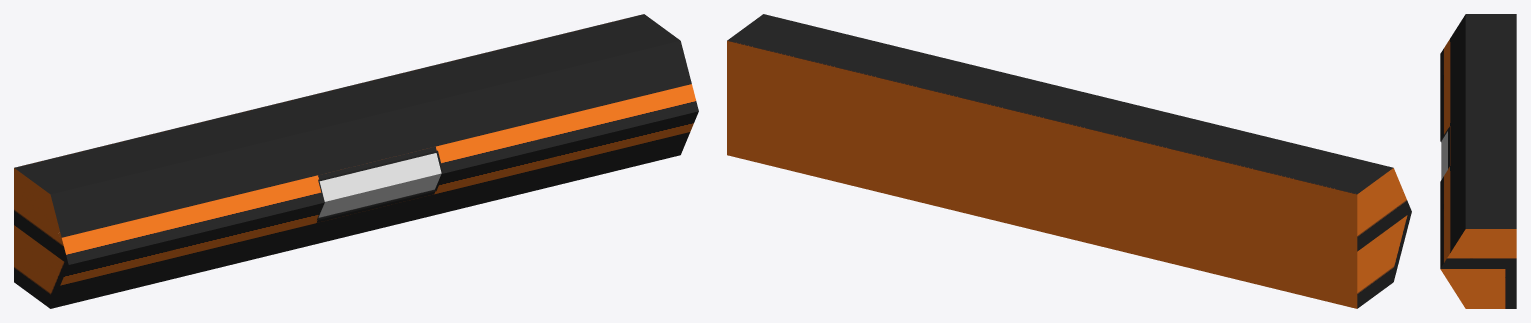
Rendered from model-scenario-levelSafeZone-headquarters-cylinder-walls.fbx.
3 renders of one model, left to right at view 1: azimuth 30°, elevation 25°; view 2: azimuth 150°, elevation 25°; view 3: azimuth 270°, elevation 25°, orthographic. The views are drawn at different scales.
Parts seen in each view (by area): view 1: walls, glass; view 2: walls; view 3: walls, glass.
Part boxes in pixels (<box>): walls: <box>14,14,698,308</box>; glass: <box>318,153,441,217</box>; walls: <box>727,14,1411,308</box>; walls: <box>1440,14,1516,308</box>; glass: <box>1441,131,1447,179</box>.
Bounding box in the file's own units: 200 × 30.06 × 34.71.
3 materials, 1 textured.
